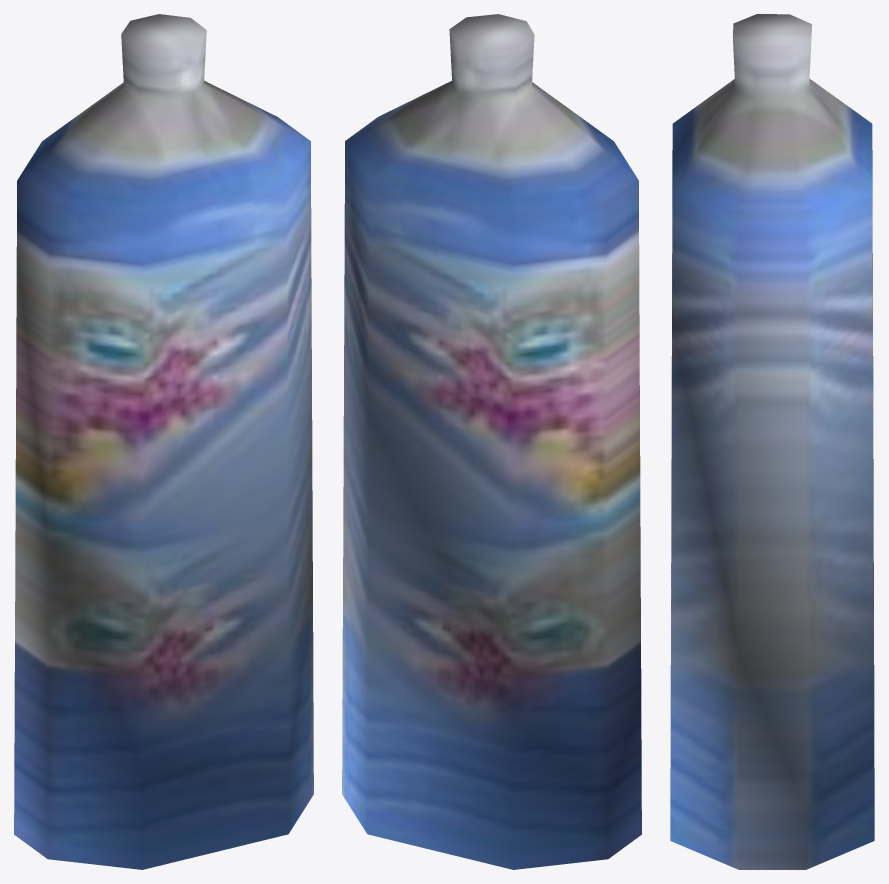
File: Softener.glb
3 views of the same model, side by side, from view 1: azimuth 30°, elevation 25°; view 2: azimuth 150°, elevation 25°; view 3: azimuth 270°, elevation 25° (orthographic).
Visible parts, largest first — view 1: Softener; view 2: Softener; view 3: Softener.
Boxes of the visible parts, x1=… form: Softener: x1=14, y1=14, x2=313, y2=869; Softener: x1=342, y1=14, x2=641, y2=869; Softener: x1=670, y1=14, x2=874, y2=869.
Bounding box in the file's own units: 0.0853 × 0.2396 × 0.0572.
1 material, 1 textured.
